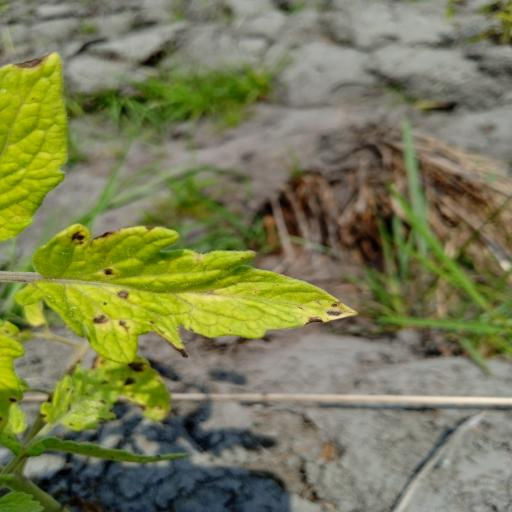Tomato_Brown_Spots: (20, 222, 360, 366)
